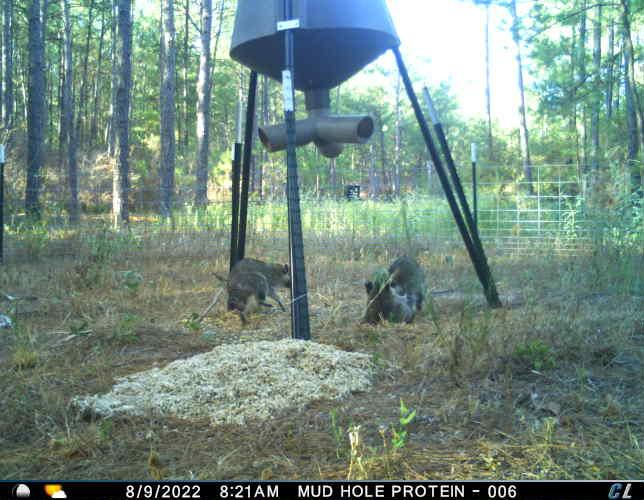Raccoon: (365, 250, 428, 331), (225, 259, 294, 319)
